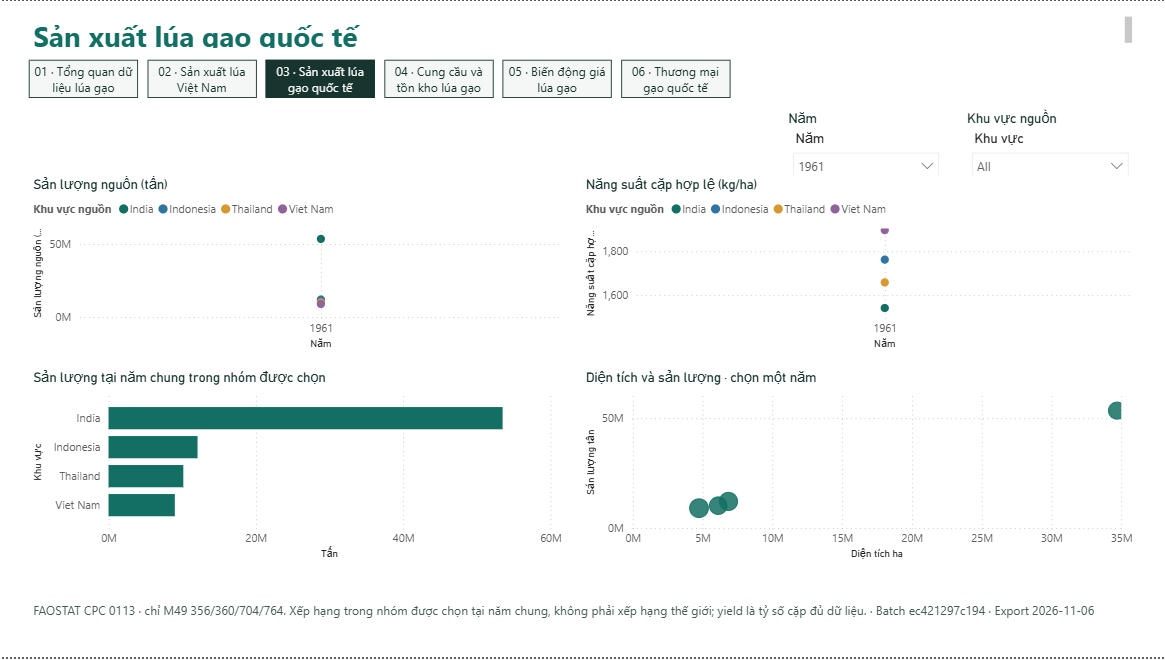

Layout of this report page (visuals, bound fields, positions):
{"tool":"powerbi","page":{"name":"03 · Sản xuất lúa gạo quốc tế","canvas":[1280,720],"ordinal":2},"visuals":[{"type":"textbox","box":[32,12,1216,44],"z":1},{"type":"pageNavigator","box":[32,64,770,42],"z":2},{"type":"slicer","title":"Năm","fields":{"Values":["CalendarYear.Year"]},"box":[860,120,180,72],"z":3},{"type":"slicer","title":"Khu vực nguồn","fields":{"Values":["FAO.area_name"]},"box":[1056,120,192,72],"z":4},{"type":"lineChart","title":"Sản lượng nguồn (tấn)","fields":{"Category":["CalendarYear.Year"],"Series":["FAO.area_name"],"Y":["Overview.FAO Production"]},"box":[32,192,590,195],"z":5},{"type":"lineChart","title":"Năng suất cặp hợp lệ (kg/ha)","fields":{"Category":["CalendarYear.Year"],"Series":["FAO.area_name"],"Y":["Overview.FAO Weighted Yield"]},"box":[638,192,610,195],"z":6},{"type":"barChart","title":"Sản lượng tại năm chung trong nhóm được chọn","fields":{"Category":["FAO.area_name"],"Y":["Overview.FAO Common Production"]},"box":[32,404,590,215],"z":7},{"type":"scatterChart","title":"Diện tích và sản lượng · chọn một năm","fields":{"Category":["FAO.area_name"],"Size":["Overview.FAO Weighted Yield"],"X":["Overview.FAO Area"],"Y":["Overview.FAO Production"]},"box":[638,404,610,215],"z":8},{"type":"textbox","box":[32,654,1216,56],"z":90}]}

Visuals, with their boxes in screenshot pixels (x1, y1, x2, y2), scaled from the page's 1280x720 canvas onto the 1165x660 screenshot:
textbox: box=[29, 11, 1136, 51]
pageNavigator: box=[29, 59, 730, 97]
"Năm" slicer: box=[783, 110, 947, 176]
"Khu vực nguồn" slicer: box=[961, 110, 1136, 176]
"Sản lượng nguồn (tấn)" lineChart: box=[29, 176, 566, 355]
"Năng suất cặp hợp lệ (kg/ha)" lineChart: box=[581, 176, 1136, 355]
"Sản lượng tại năm chung trong nhóm được chọn" barChart: box=[29, 370, 566, 567]
"Diện tích và sản lượng · chọn một năm" scatterChart: box=[581, 370, 1136, 567]
textbox: box=[29, 600, 1136, 651]
